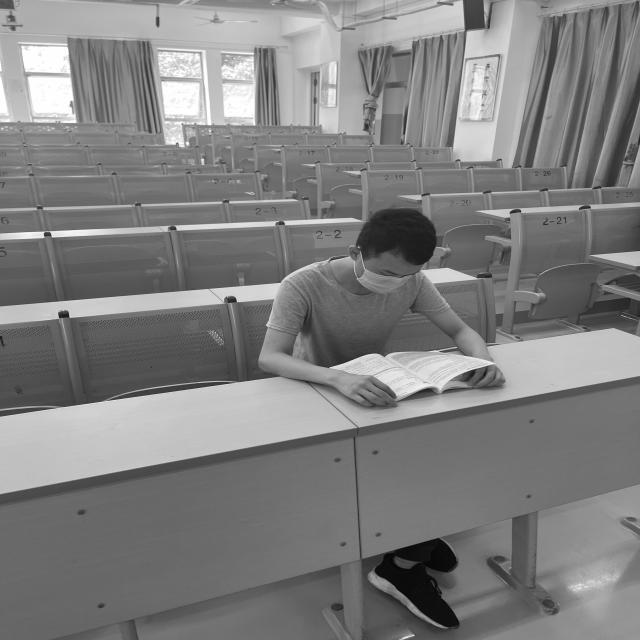study: (259, 208, 510, 405)
